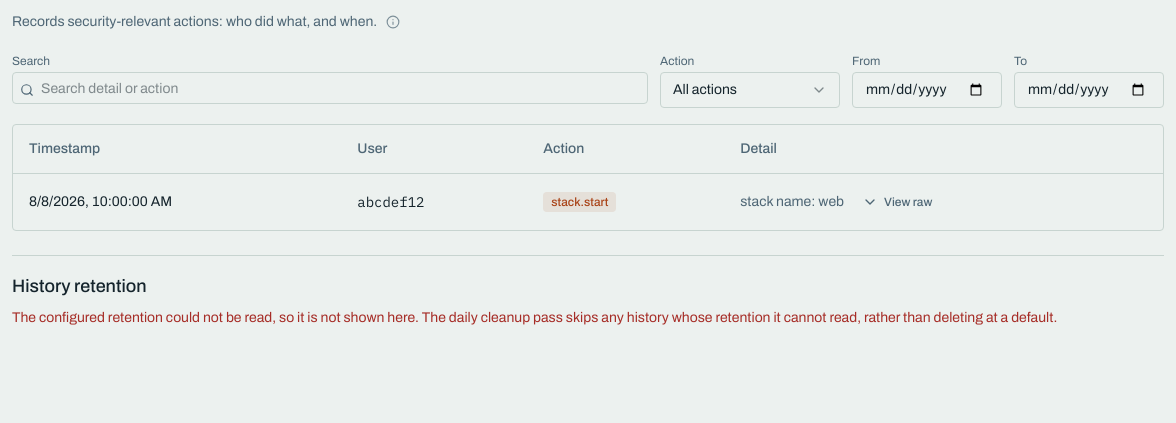
Test: AuditLogContent — the table › spans the raw-detail row across every column (agent-os-o9fx)
Click the button with aria-label "View raw detail" at (897,202), box [852, 190, 942, 214]
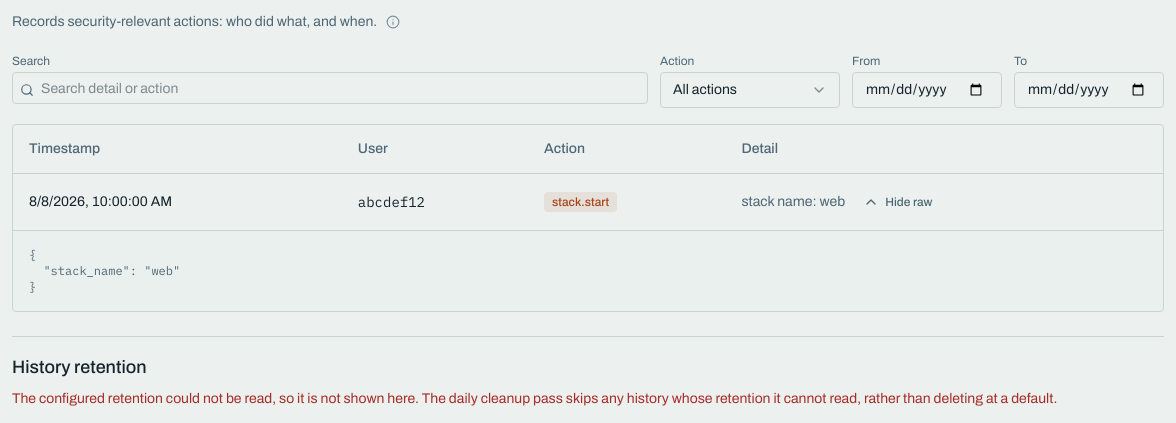
Check: the column heading "Timestamp" is shown, box [13, 125, 342, 173]
Check: the text "{ \"stack_name\": \"web\" }" is shown, box [13, 230, 1163, 310]
Check: the text "\"stack_name\": \"web\"" is shown, box [29, 246, 180, 294]
